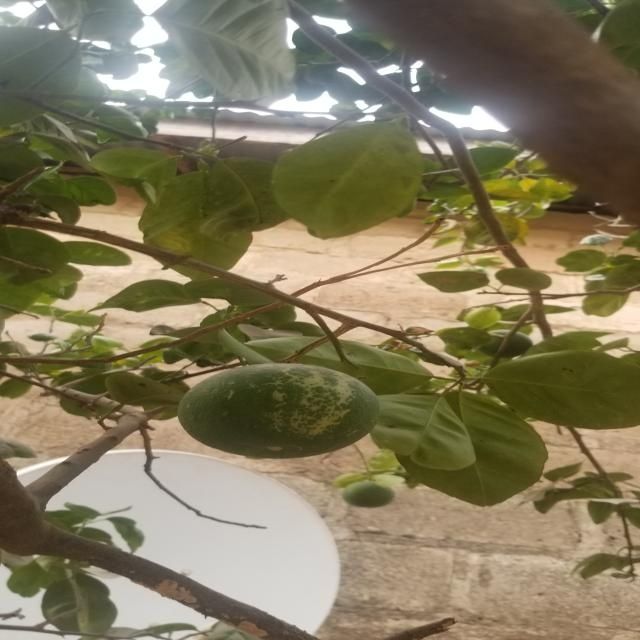agrume: (167, 357, 408, 475)
